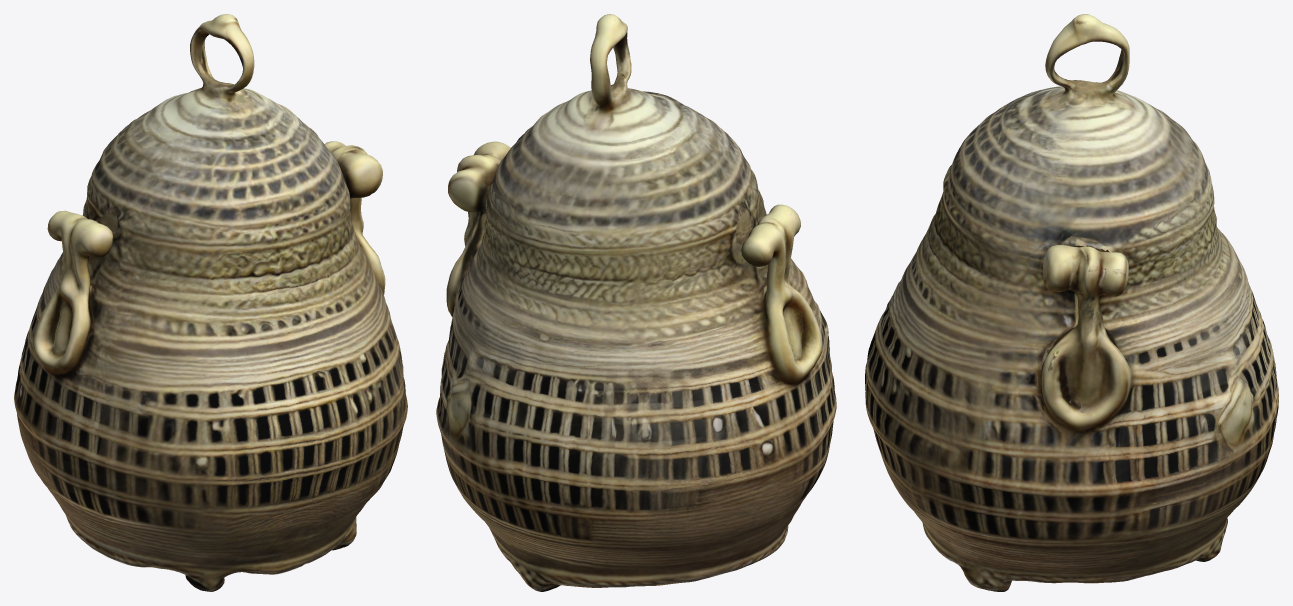
Rendered from dhokra.glb.
3 renders of one model, left to right at view 1: azimuth 30°, elevation 25°; view 2: azimuth 150°, elevation 25°; view 3: azimuth 270°, elevation 25°, orthographic. The views are drawn at different scales.
Bounding box in the file's own units: 1.37 × 2 × 1.39.
Materials: 1 (1 with a texture image).
